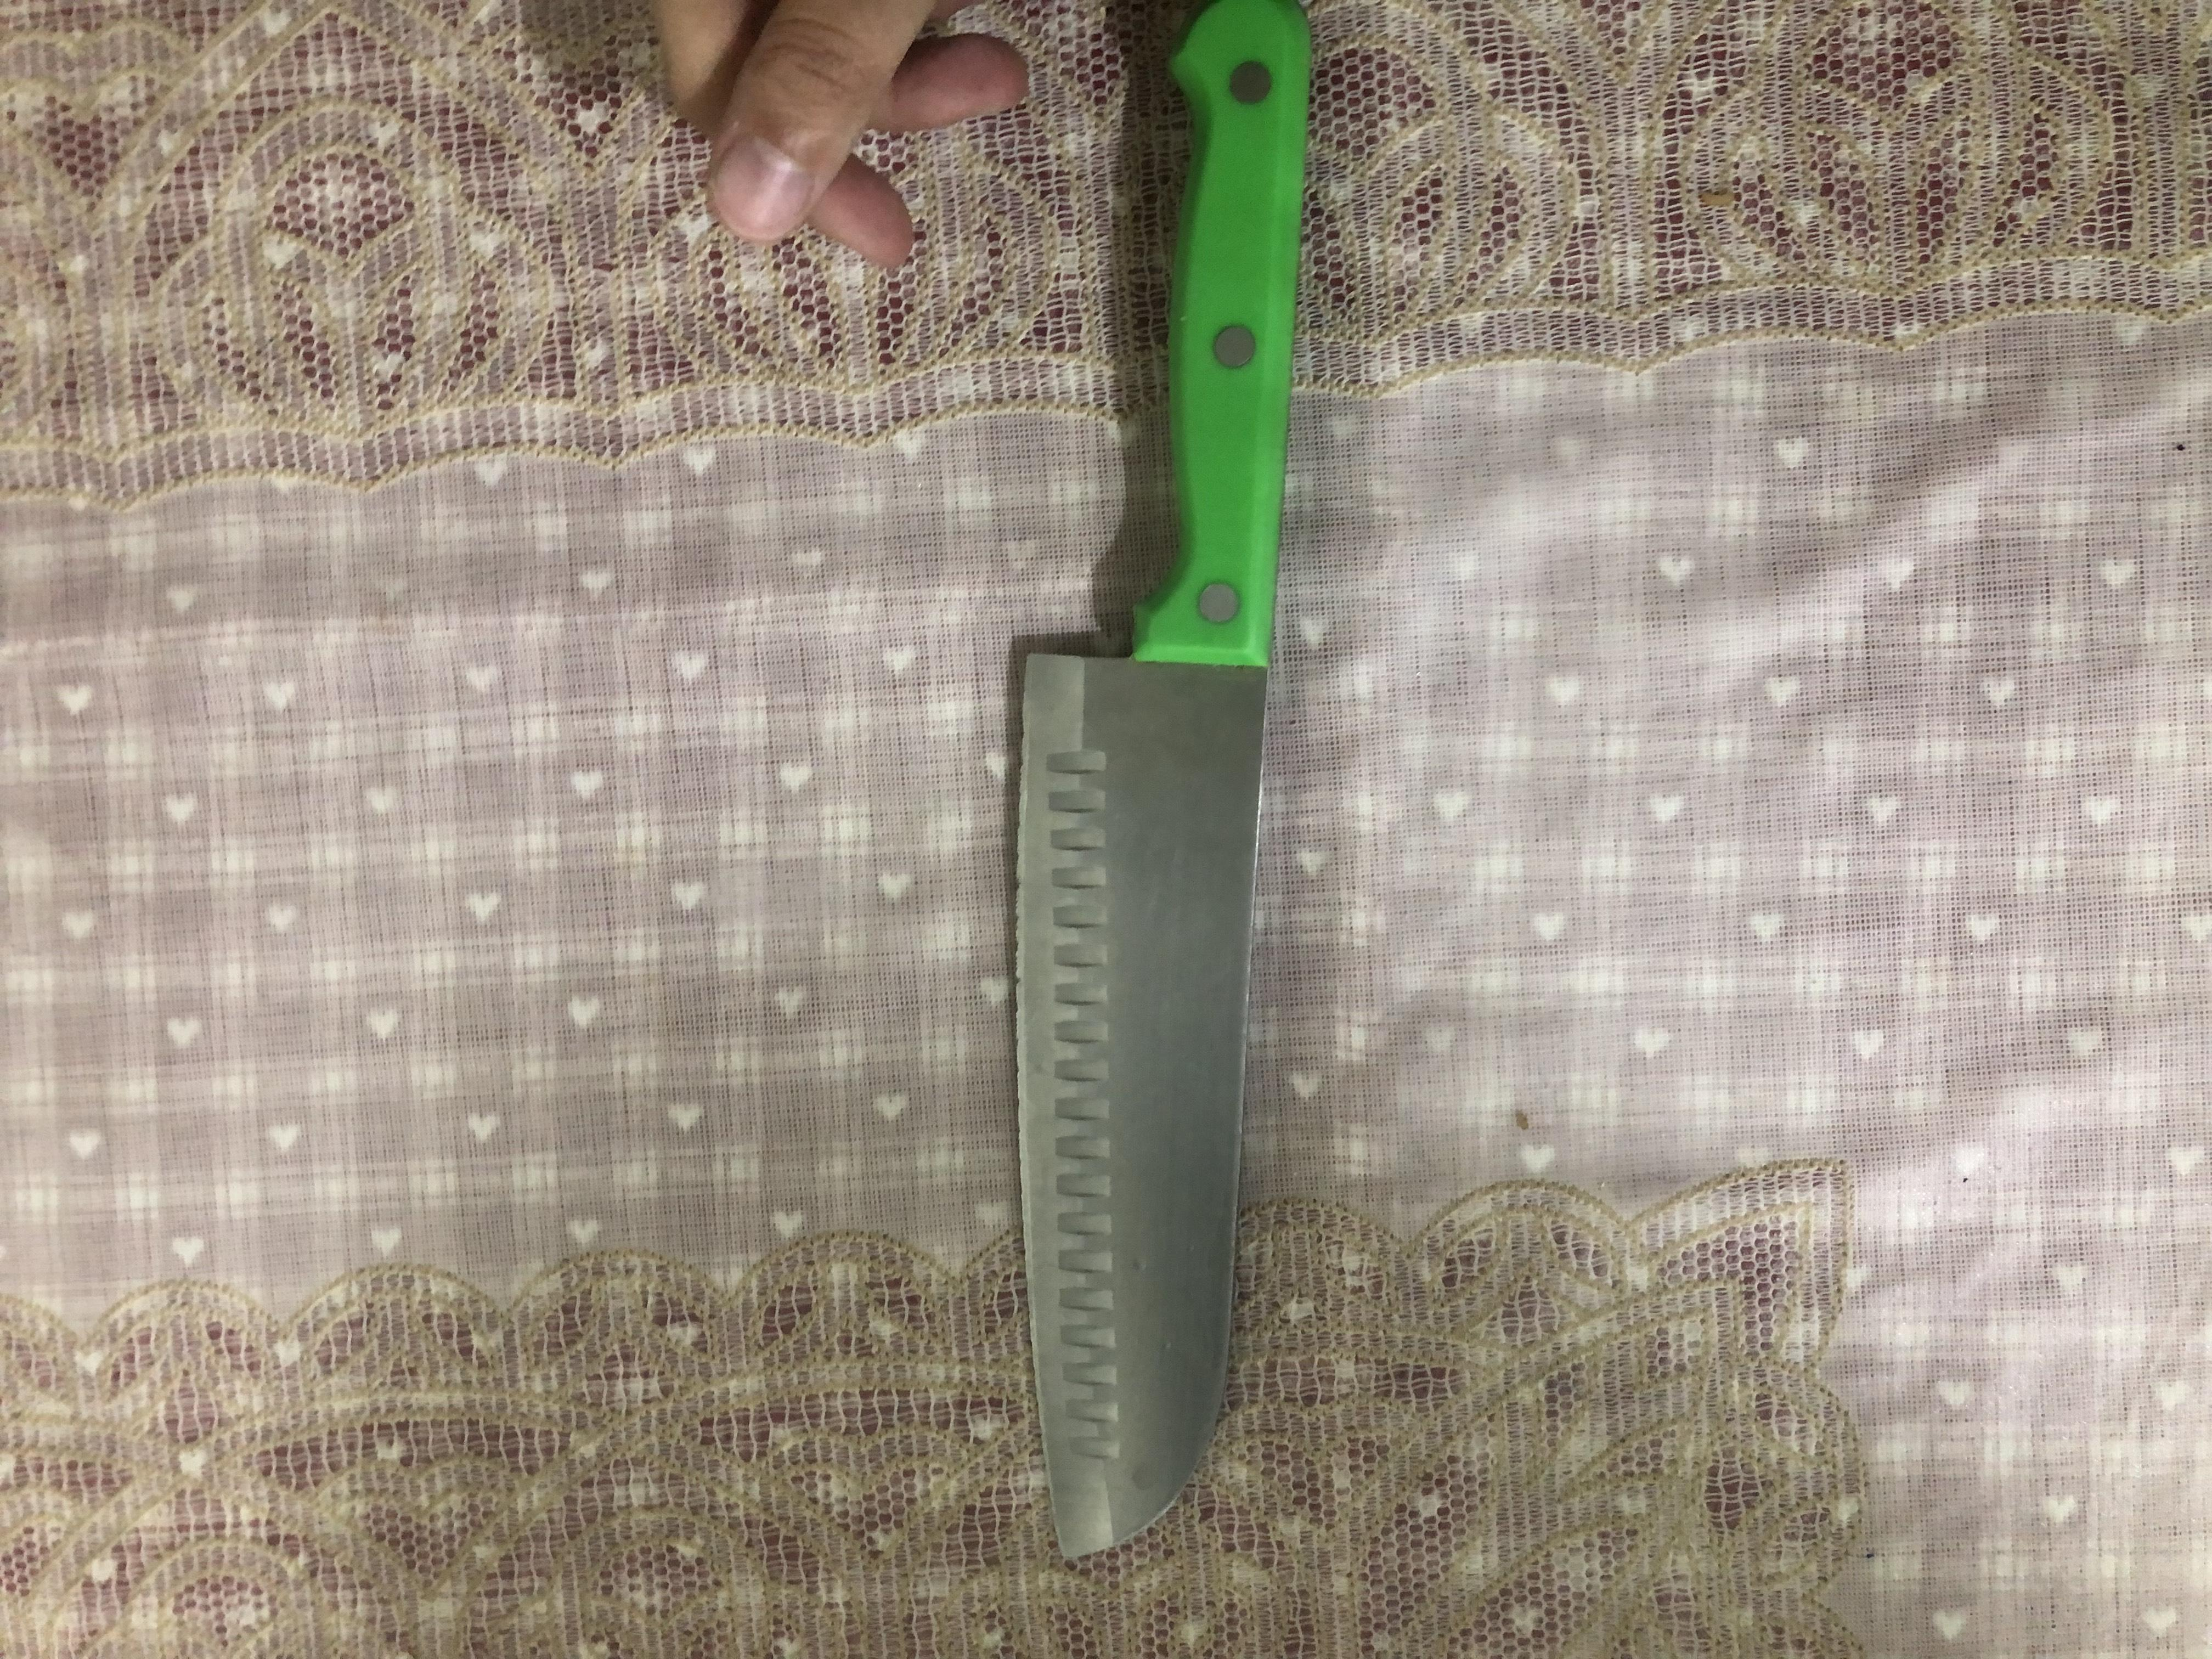weapon: (132, 749, 2212, 986)
